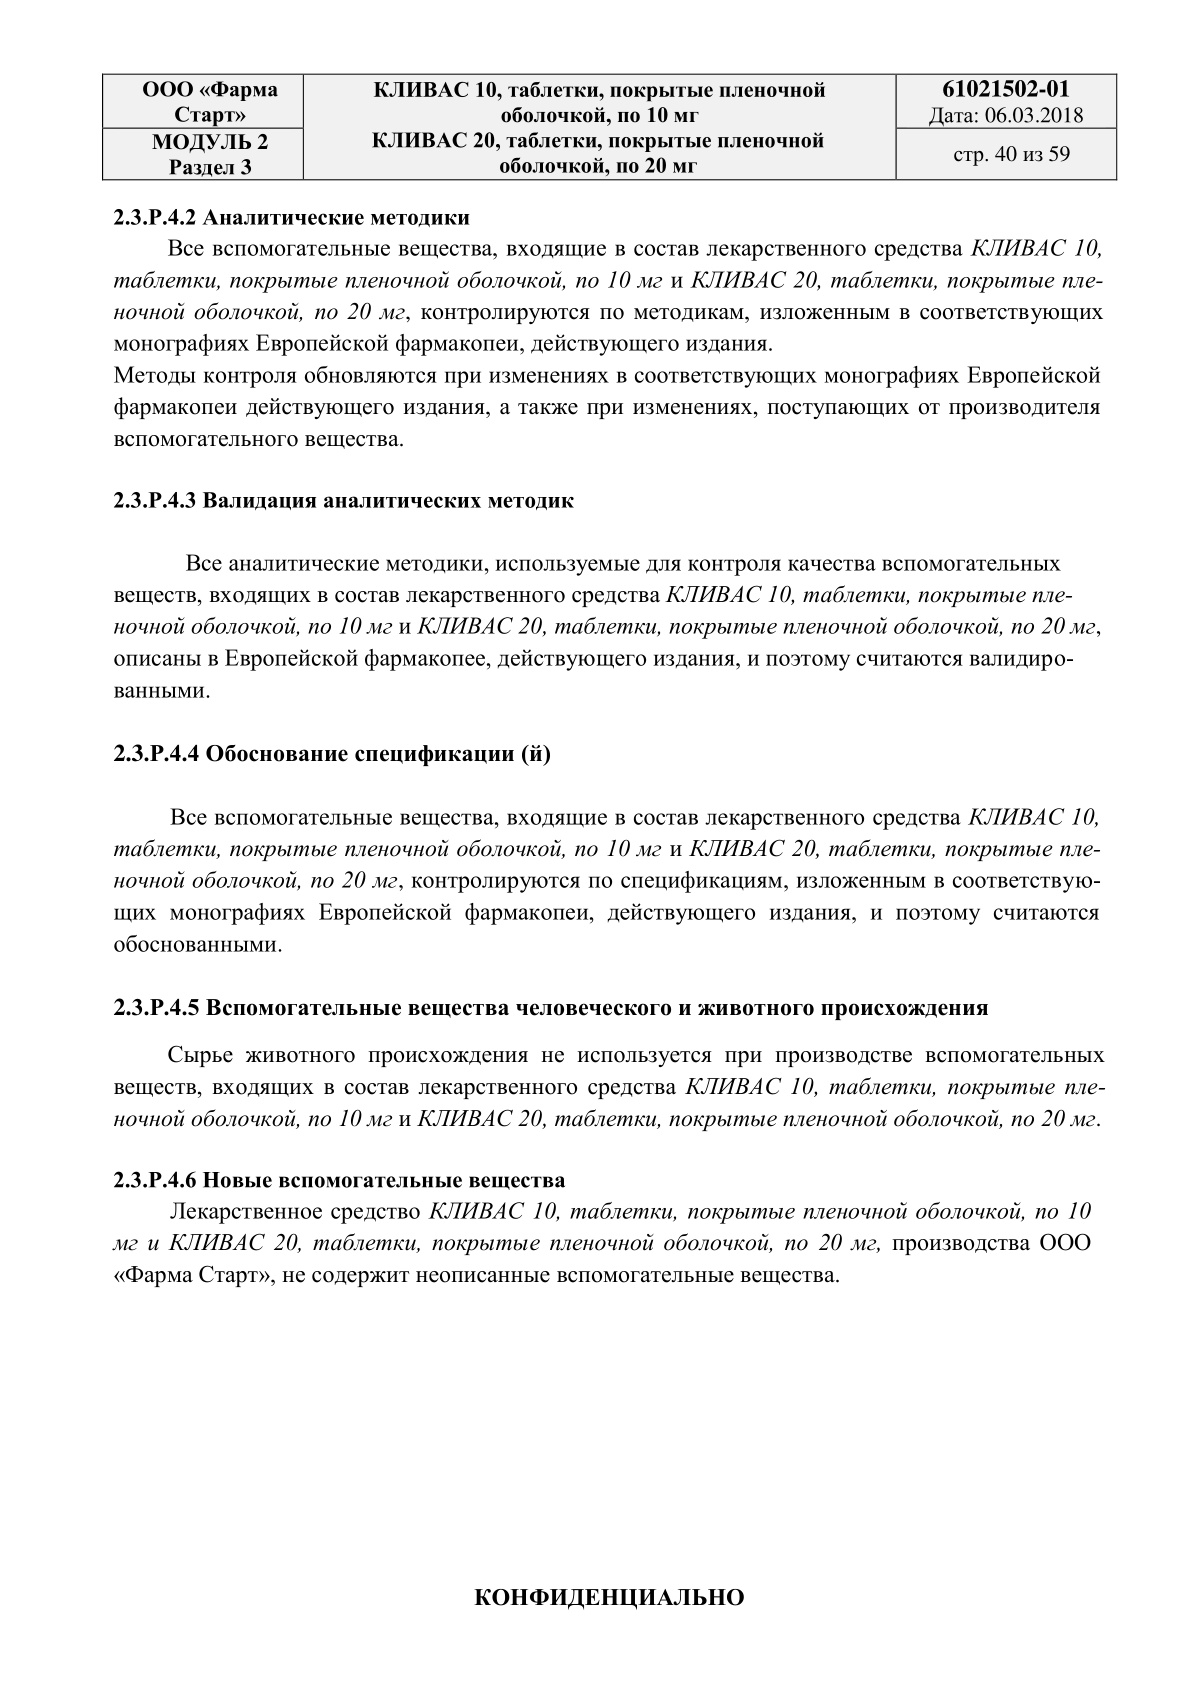merged_cells: (101, 72, 1120, 182)
